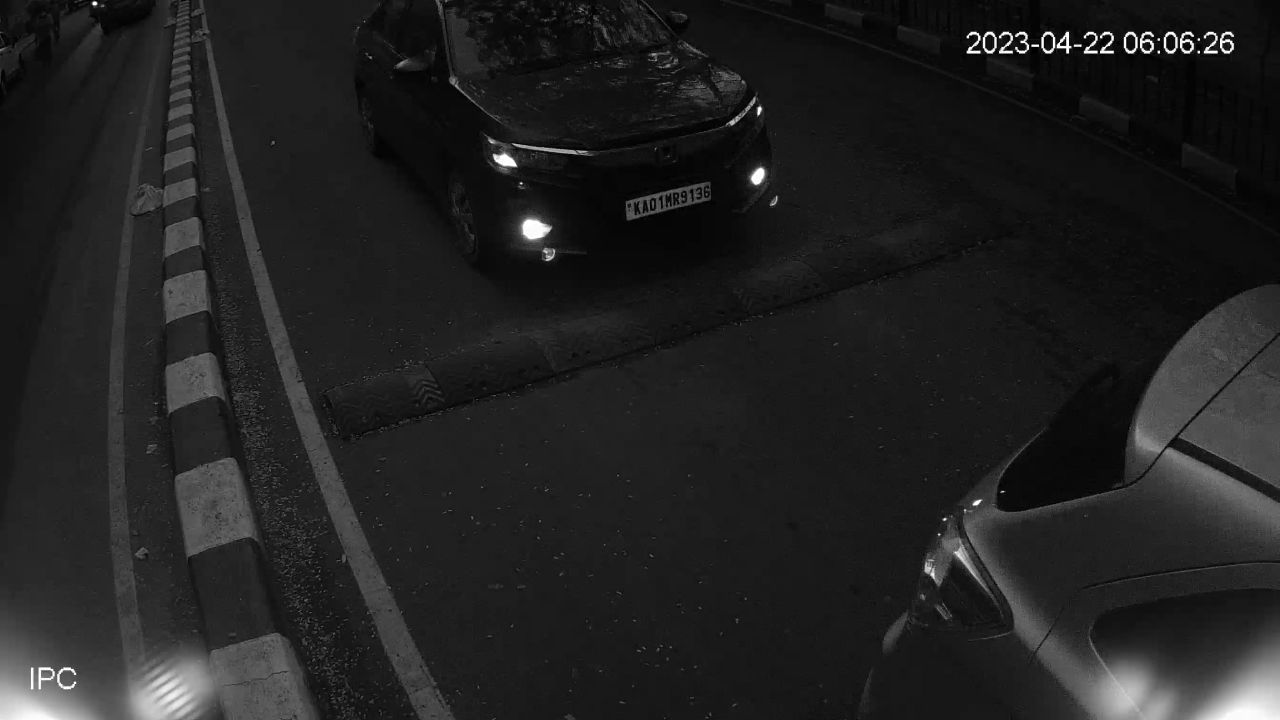license_plate: (620, 177, 715, 225)
